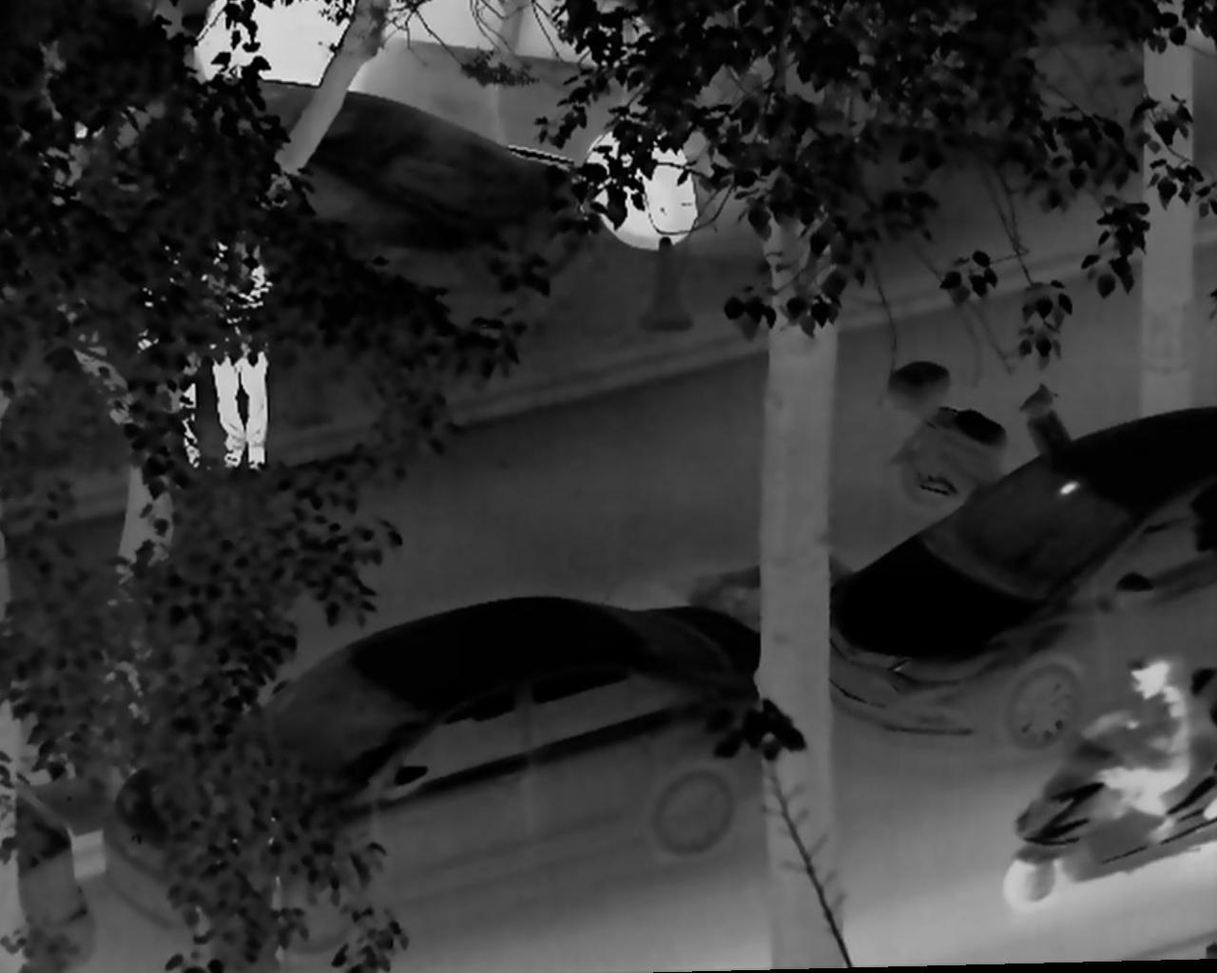person: (1072, 636, 1192, 854), (203, 217, 278, 483)
